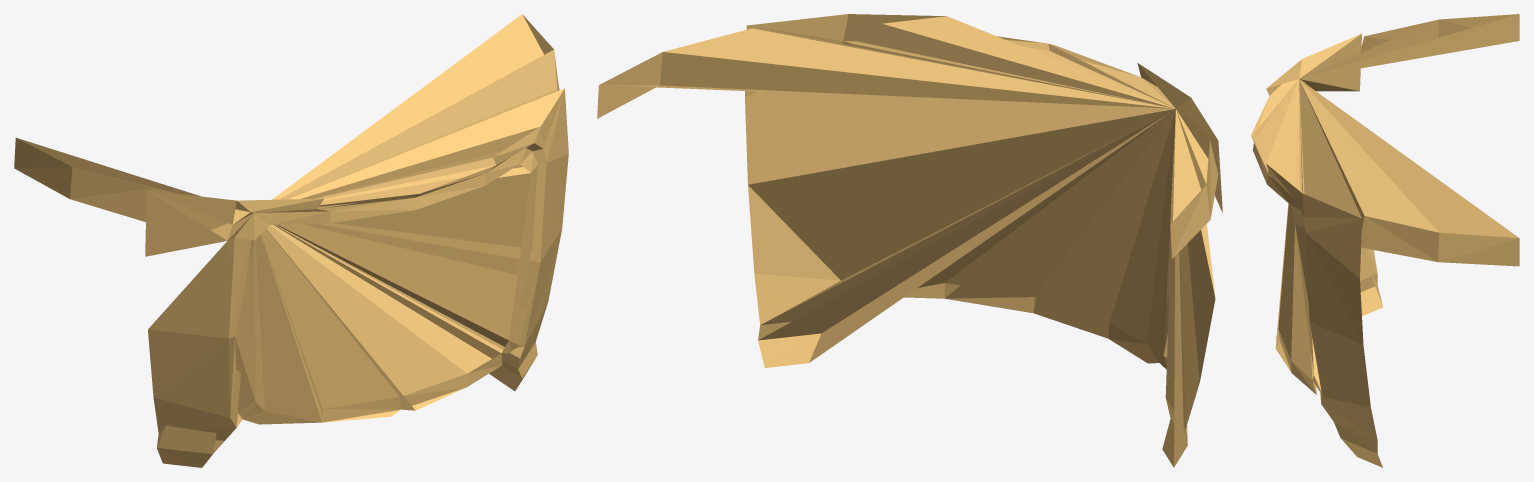
File: S.S._Dolphin_part.006.obj
3 views of the same model, side by side, from view 1: azimuth 30°, elevation 25°; view 2: azimuth 150°, elevation 25°; view 3: azimuth 270°, elevation 25° (orthographic). The views are drawn at different scales.
Visible parts, largest first — view 1: S.S._Dolphin_part.006; view 2: S.S._Dolphin_part.006; view 3: S.S._Dolphin_part.006.
Boxes of the visible parts, x1,y1,x2,y2 form: S.S._Dolphin_part.006: [14, 14, 568, 467]; S.S._Dolphin_part.006: [597, 14, 1222, 467]; S.S._Dolphin_part.006: [1251, 14, 1519, 467].
Size of the model in its own units: 6.14 by 3.32 by 3.09.
